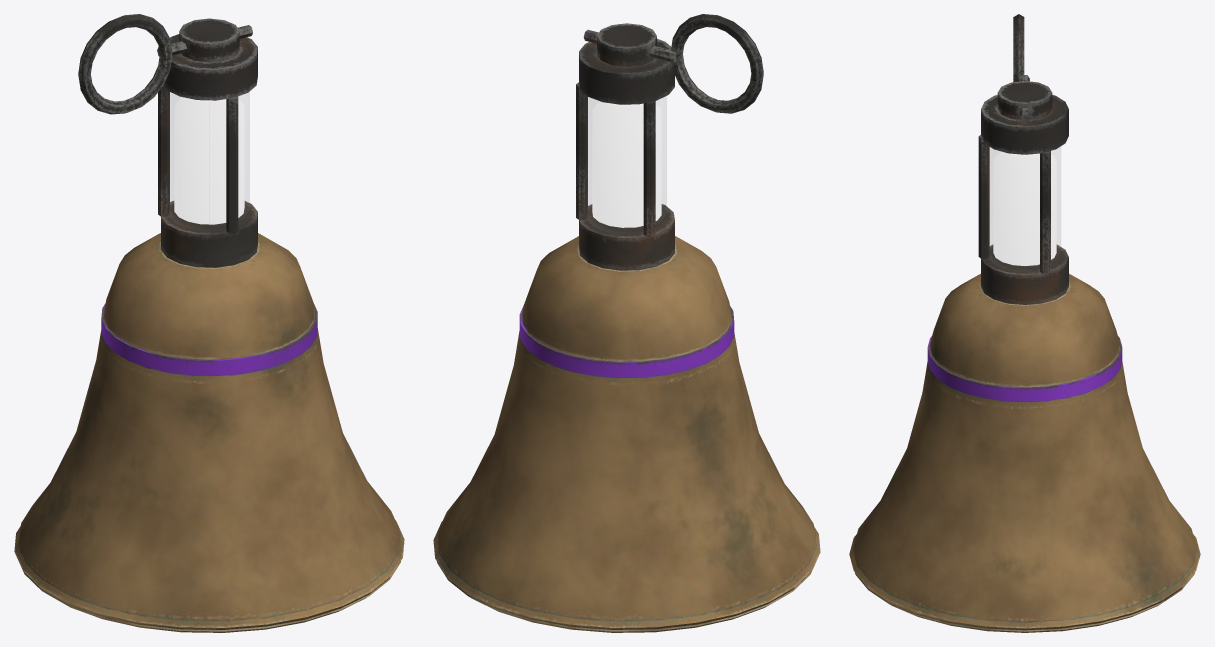
File: leechbell.glb
3 renders of one model, left to right at view 1: azimuth 30°, elevation 25°; view 2: azimuth 150°, elevation 25°; view 3: azimuth 270°, elevation 25°, orthographic. The views are drawn at different scales.
Visible parts, largest first — view 1: Body, Glass, Band, Pin; view 2: Body, Glass, Band, Pin; view 3: Body, Glass, Band, Pin.
Part boxes in pixels (<box>): Body: <box>14,18,404,632</box>; Glass: <box>169,92,249,230</box>; Band: <box>174,97,244,224</box>; Pin: <box>78,14,252,114</box>; Body: <box>433,23,820,632</box>; Glass: <box>587,96,666,233</box>; Band: <box>592,102,661,227</box>; Pin: <box>583,14,763,113</box>; Body: <box>849,81,1200,632</box>; Glass: <box>989,147,1060,271</box>; Band: <box>993,151,1056,265</box>; Pin: <box>1013,14,1029,122</box>.
Size of the model in its own units: 0.1162 by 0.1841 by 0.1162.
3 materials, 1 textured.
